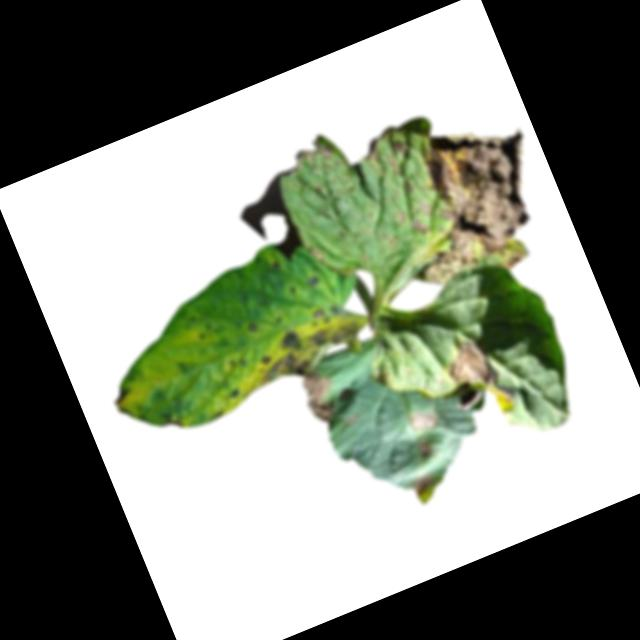Early_blight: (371, 103, 570, 303), (237, 297, 367, 392), (438, 329, 519, 428), (294, 367, 345, 427), (290, 133, 337, 173), (404, 403, 439, 437), (106, 382, 136, 417), (409, 468, 438, 499), (415, 436, 436, 459), (301, 269, 321, 290), (307, 242, 325, 265), (225, 382, 245, 402), (243, 316, 261, 335)
